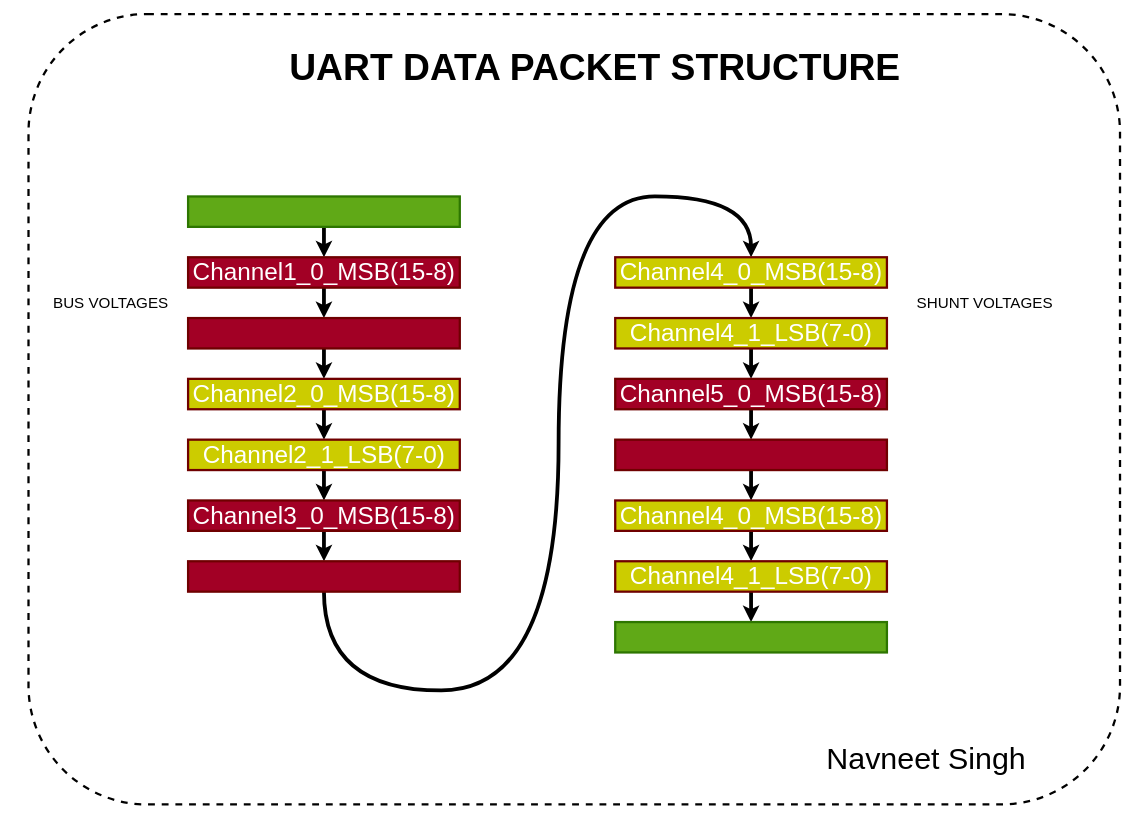
Image size: 1134x827. Some labels were removed from this diagram. Each missing label, with the centre of its shape:
"Channel1_1_LSB(7-0)" goes at [324,333].
"Channel3_1_LSB(7-0)" goes at [324,576].
"Channel5_1_LSB(7-0)" goes at [751,454].
"END OF FRAME" goes at [751,637].
"START OF FRAME" goes at [324,211].
